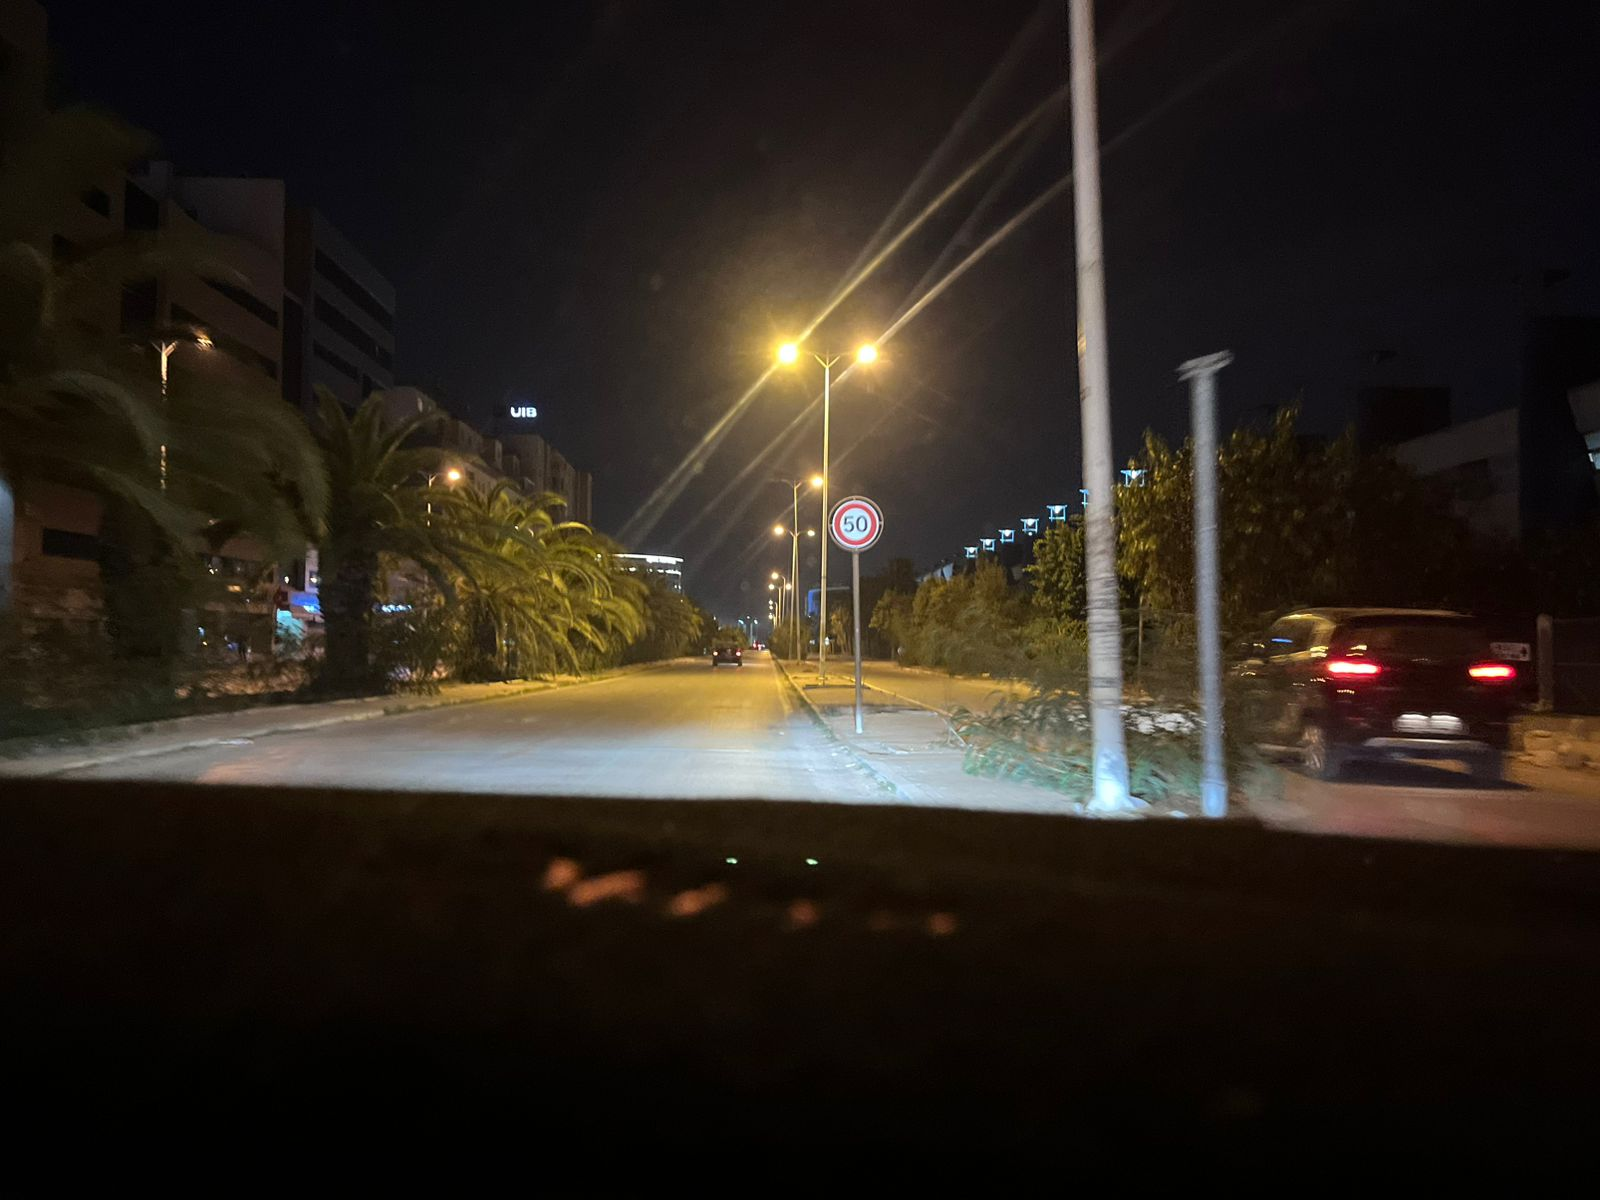SpeedLimit50: (828, 495, 886, 553)
